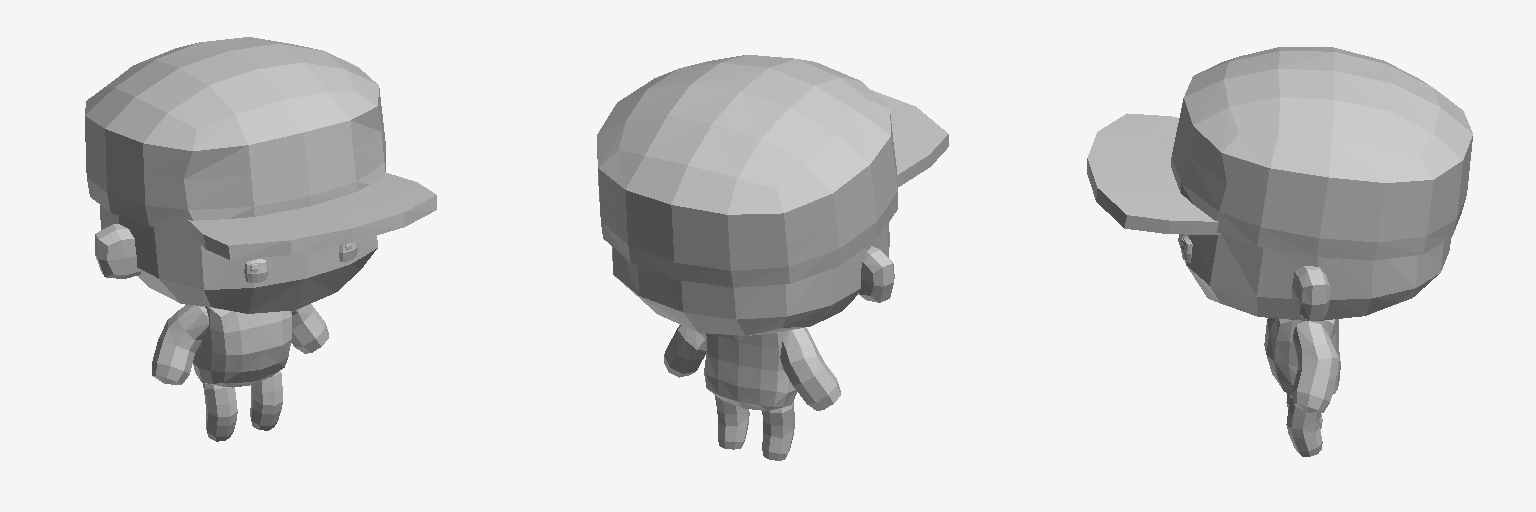
File: idle_0021.obj
3 views of the same model, side by side, from view 1: azimuth 30°, elevation 25°; view 2: azimuth 150°, elevation 25°; view 3: azimuth 270°, elevation 25° (orthographic).
Parts seen in each view (by area): view 1: Object_41, Object_42, Object_36, Object_44, Object_38; view 2: Object_41, Object_44, Object_36, Object_42; view 3: Object_41, Object_36, Object_42, Object_44.
Boxes of the visible parts, <box> form: Object_41: <box>85,37,385,231</box>; Object_42: <box>184,106,436,259</box>; Object_36: <box>95,205,377,313</box>; Object_44: <box>152,304,328,441</box>; Object_38: <box>244,242,357,282</box>; Object_41: <box>597,55,897,287</box>; Object_44: <box>664,325,840,460</box>; Object_36: <box>612,223,894,335</box>; Object_42: <box>871,90,948,186</box>; Object_41: <box>1184,47,1472,260</box>; Object_36: <box>1178,234,1450,321</box>; Object_42: <box>1087,98,1226,234</box>; Object_44: <box>1264,318,1340,456</box>.
Size of the model in its own units: 0.9691 by 1.22 by 1.14.